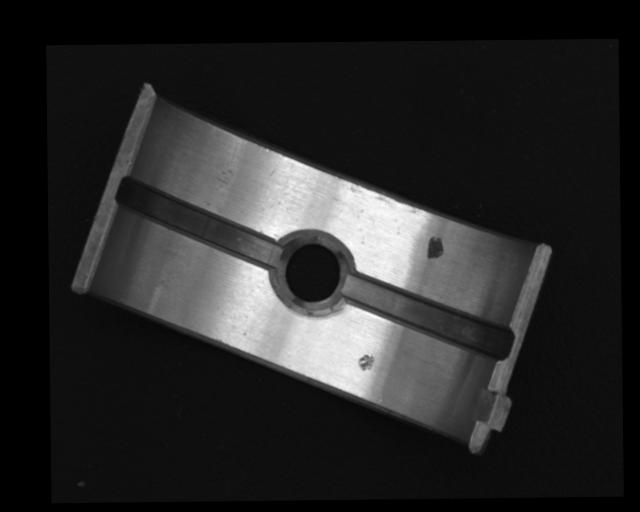blot: (425, 235, 444, 260)
bruise: (357, 353, 376, 372)
gap: (343, 268, 513, 363), (115, 176, 284, 270)
hole: (277, 236, 348, 315)
